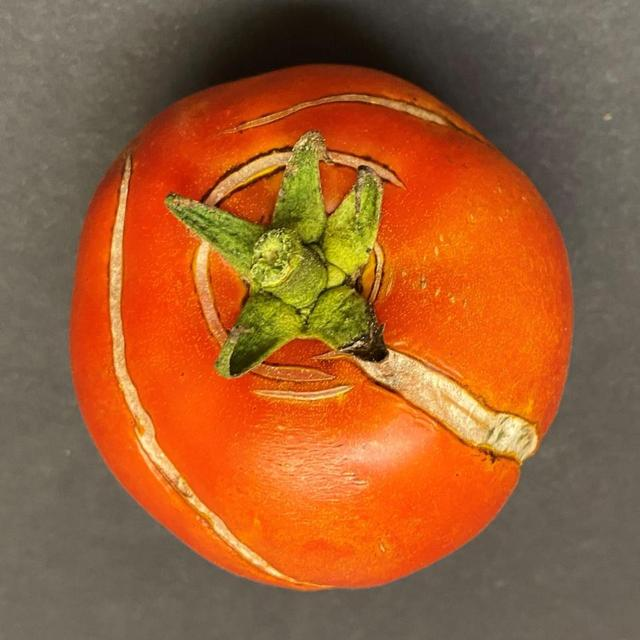Cracking Fruit: (112, 38, 277, 308)
